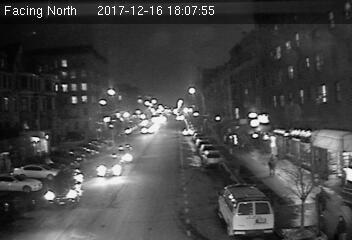car: (46, 169, 82, 207), (96, 156, 123, 178), (202, 150, 222, 166)
pedestrian: (314, 189, 329, 215), (267, 155, 276, 179)
police: (217, 182, 276, 233)
